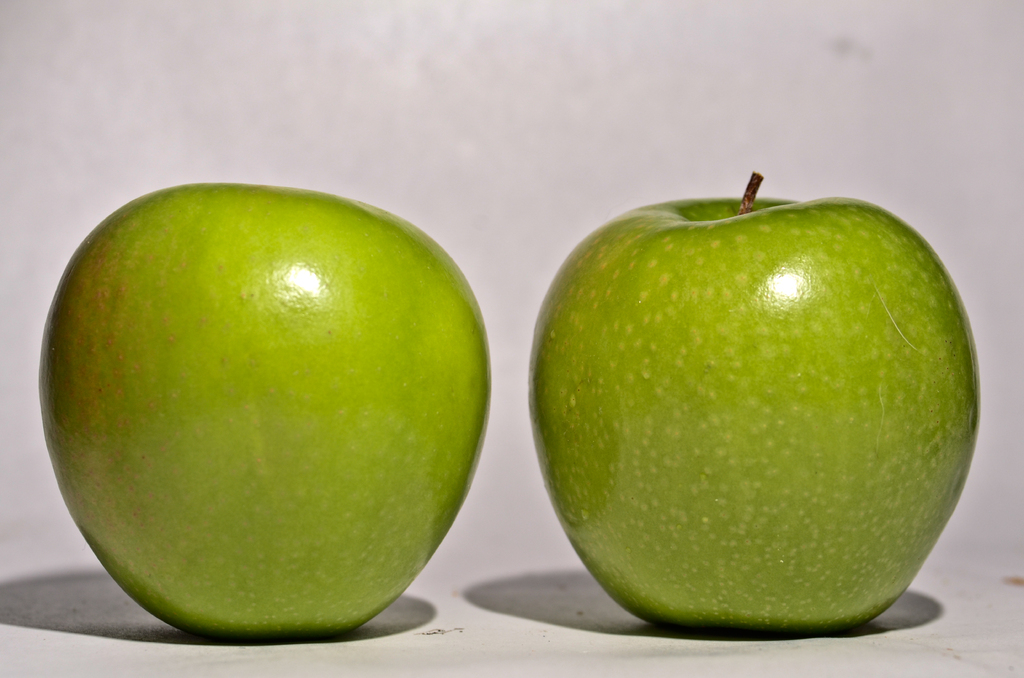Apple: (507, 158, 972, 618), (33, 186, 491, 646)
